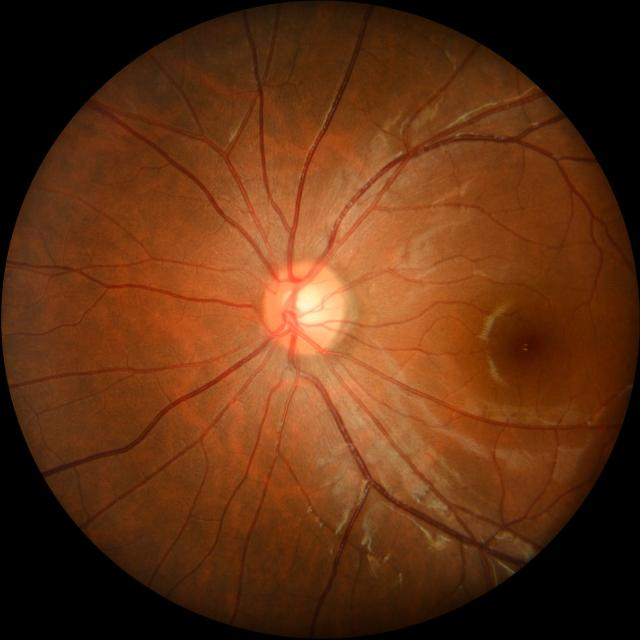OC: (285, 284, 325, 326)
OD: (262, 262, 346, 354)
